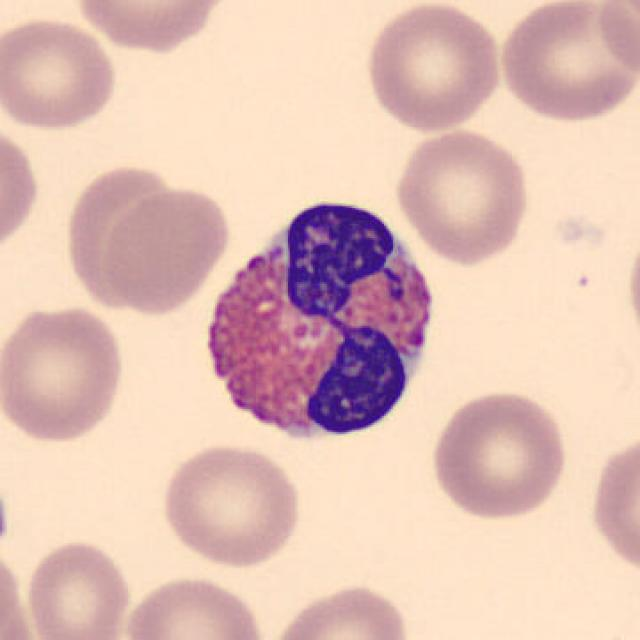Eosinophil: (188, 180, 450, 464)
RBC: (425, 386, 571, 524), (391, 125, 533, 266), (156, 439, 306, 571), (361, 2, 507, 134), (0, 300, 130, 448), (492, 0, 638, 125), (99, 182, 233, 316), (61, 166, 178, 312), (0, 12, 121, 134), (22, 536, 134, 640), (121, 571, 268, 640), (265, 578, 414, 640), (69, 0, 235, 55), (587, 426, 638, 582), (0, 116, 43, 263), (592, 0, 638, 85), (0, 541, 36, 640), (622, 218, 640, 359)
